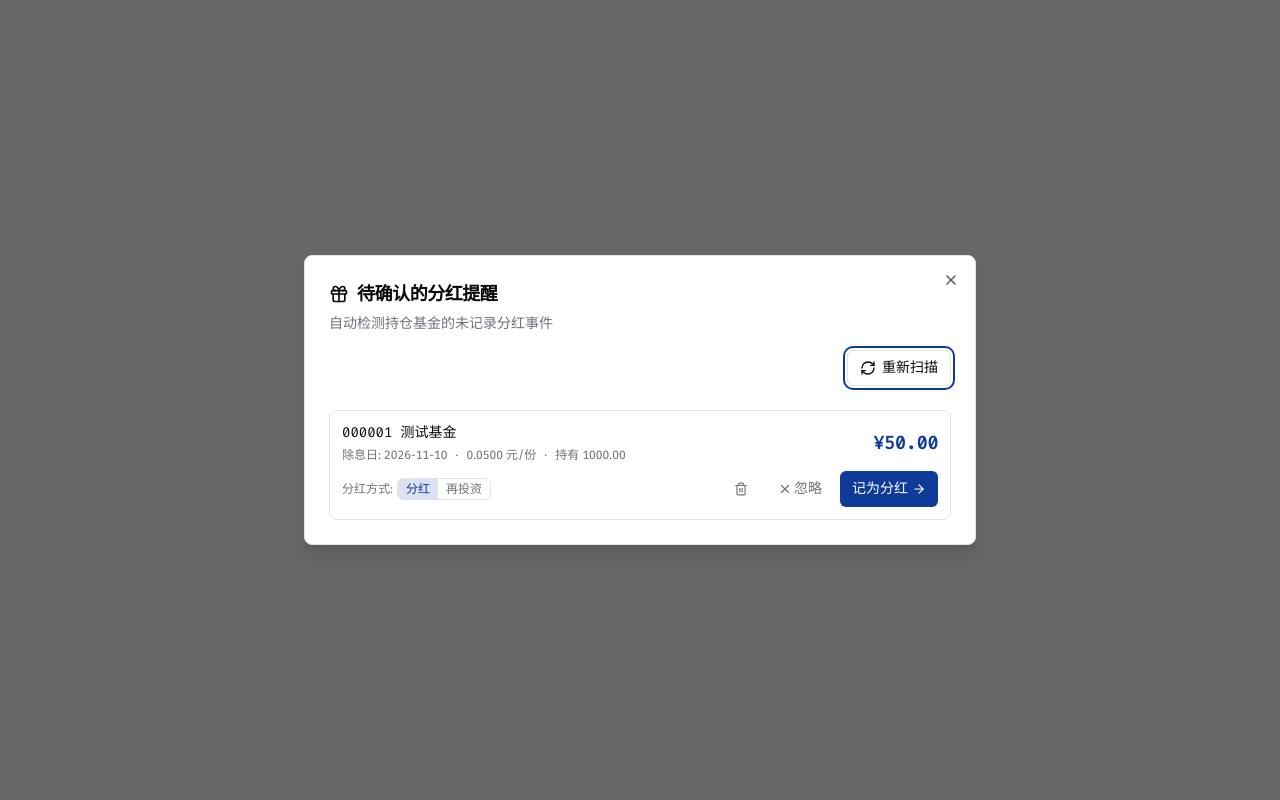
Test: DividendCheckDialog 删除提醒 › 删除成功后才移除列表项
Expected: the text "000001" is shown, 342,423 -> 392,443
Click the button titled "删除" at (741, 489), box 722,471 -> 760,507
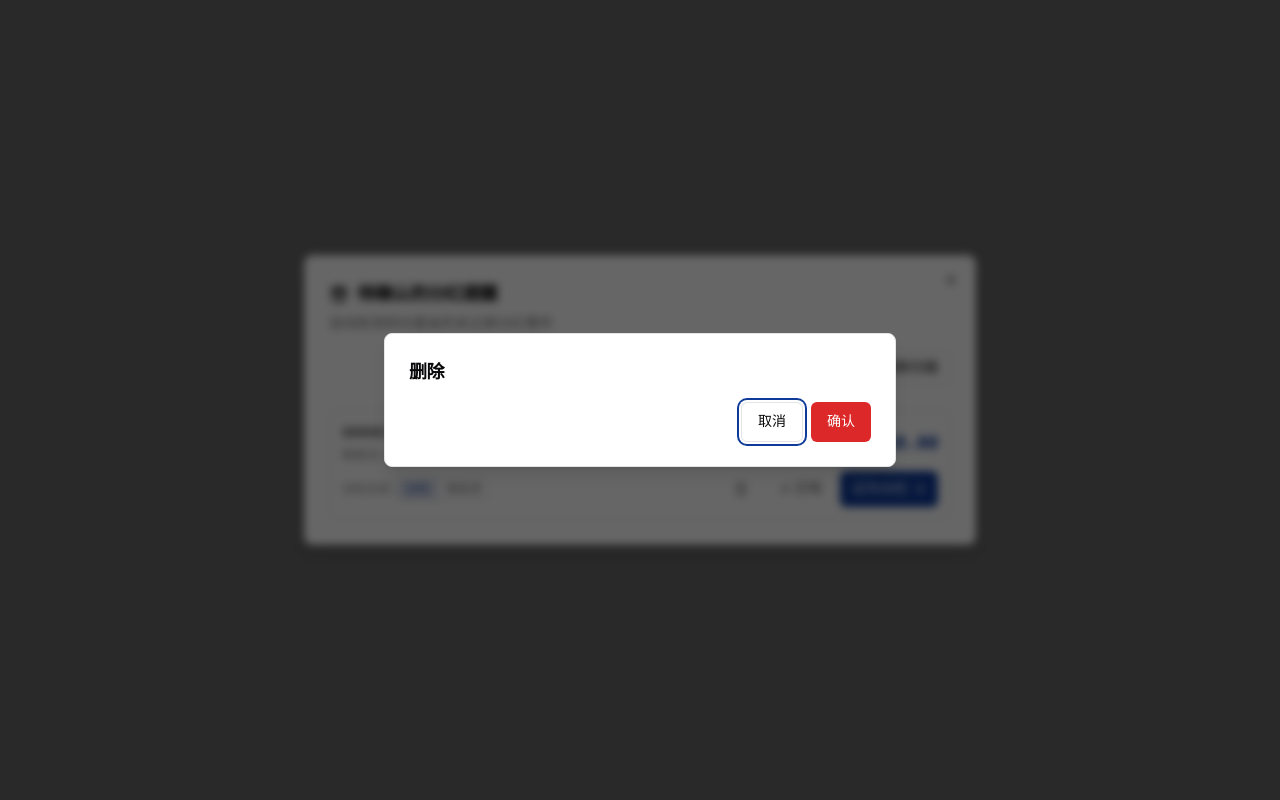
Click the button "确认" at (841, 422), box 811,402 -> 871,442
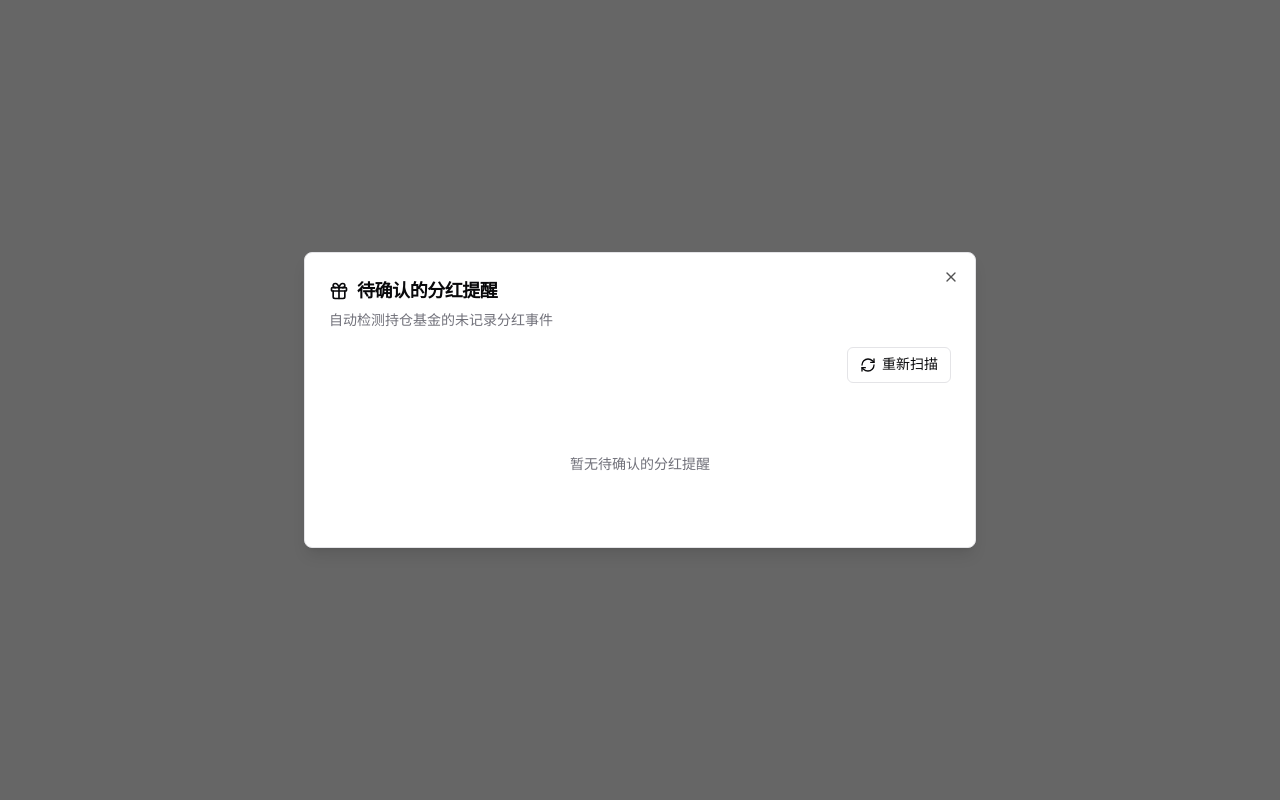
Expected: the text "000001" is gone
